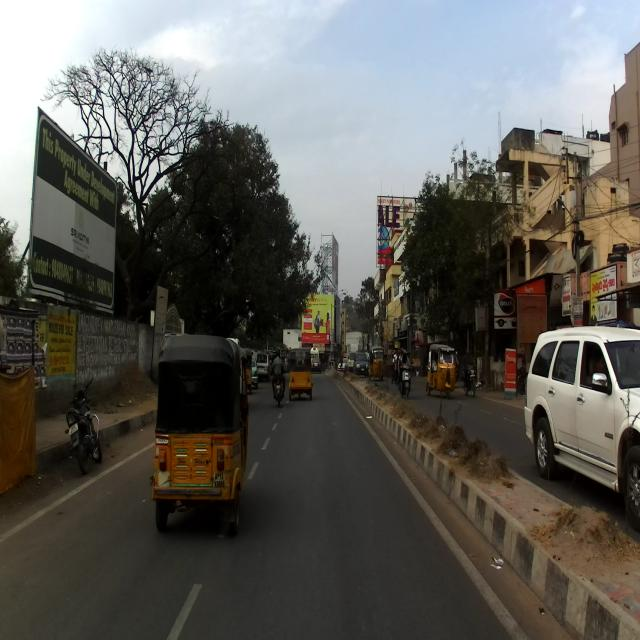auto ahead at: (155, 329, 253, 528)
car ahead at: (522, 324, 640, 512)
motorcycle ahead at: (56, 380, 105, 470)
